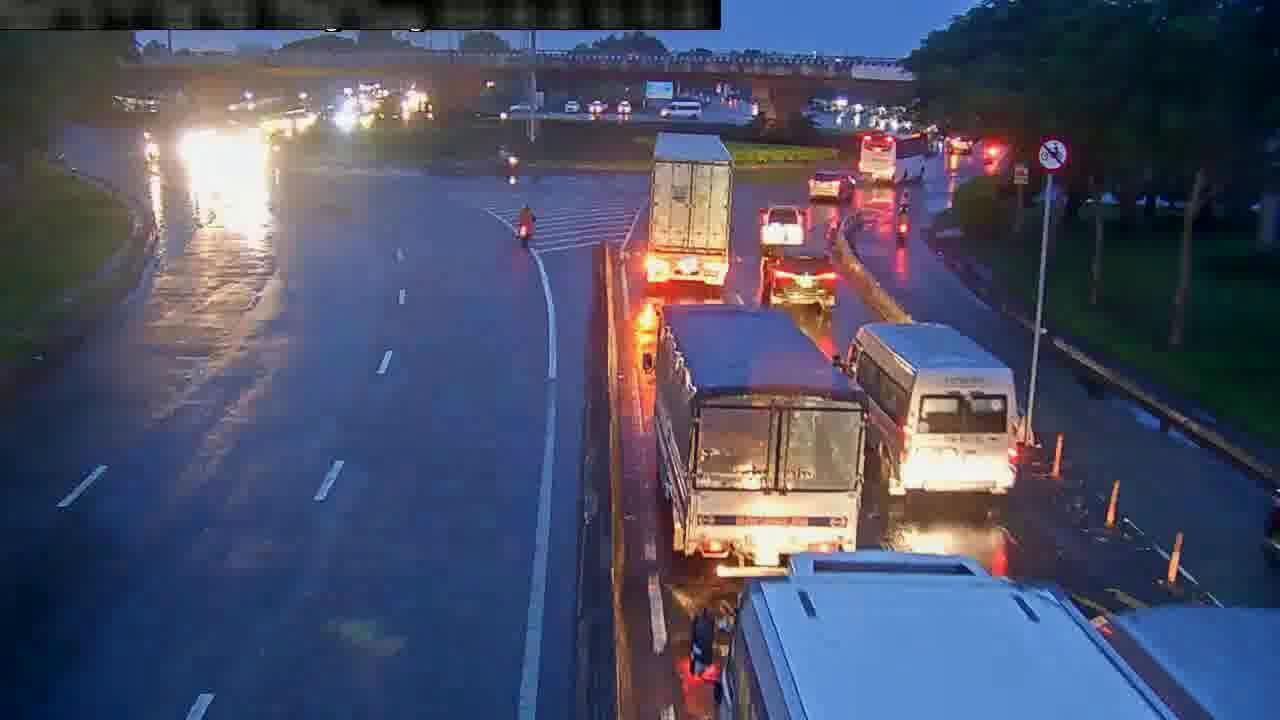14: (694, 553, 1148, 720), (838, 320, 1019, 504), (858, 129, 930, 188)
8: (642, 304, 864, 560), (646, 132, 736, 293)
container: (762, 243, 840, 315), (755, 200, 808, 250), (806, 169, 856, 203)
motorbike: (516, 199, 540, 248), (892, 205, 910, 245)
